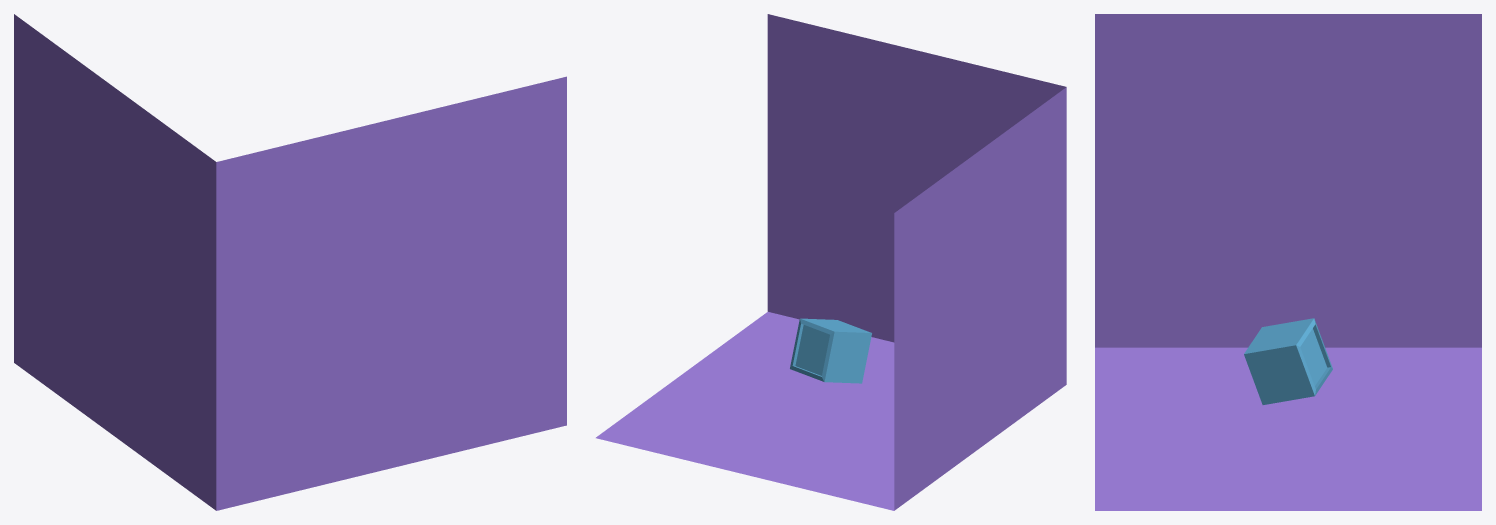
The model's file is testobj.glb.
3 views of the same model, side by side, from view 1: azimuth 30°, elevation 25°; view 2: azimuth 150°, elevation 25°; view 3: azimuth 270°, elevation 25° (orthographic). The views are drawn at different scales.
Visible parts, largest first — view 1: Plane; view 2: Plane, Cube; view 3: Plane, Cube.
Boxes of the visible parts, x1,y1,x2,y2 form: Plane: [14, 14, 566, 510]; Plane: [596, 14, 1066, 510]; Cube: [790, 318, 871, 383]; Plane: [1095, 14, 1481, 510]; Cube: [1244, 318, 1332, 404].
Bounding box in the file's own units: 10 × 9.52 × 10.
